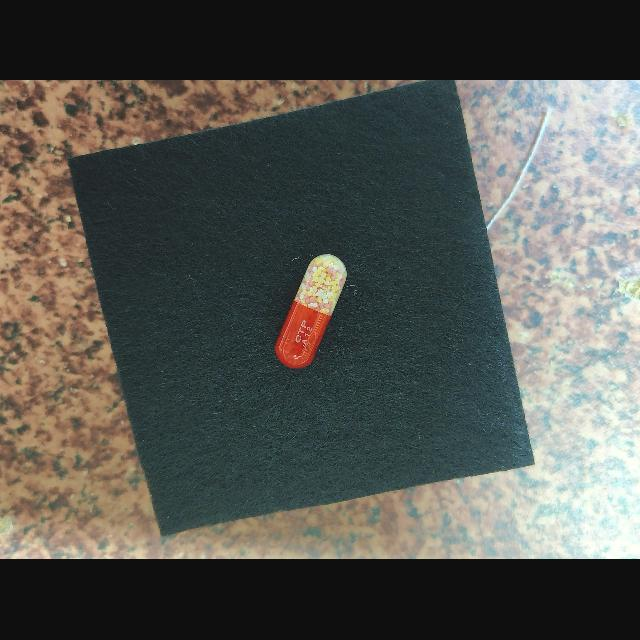Intact Capsule: (275, 255, 347, 369)
